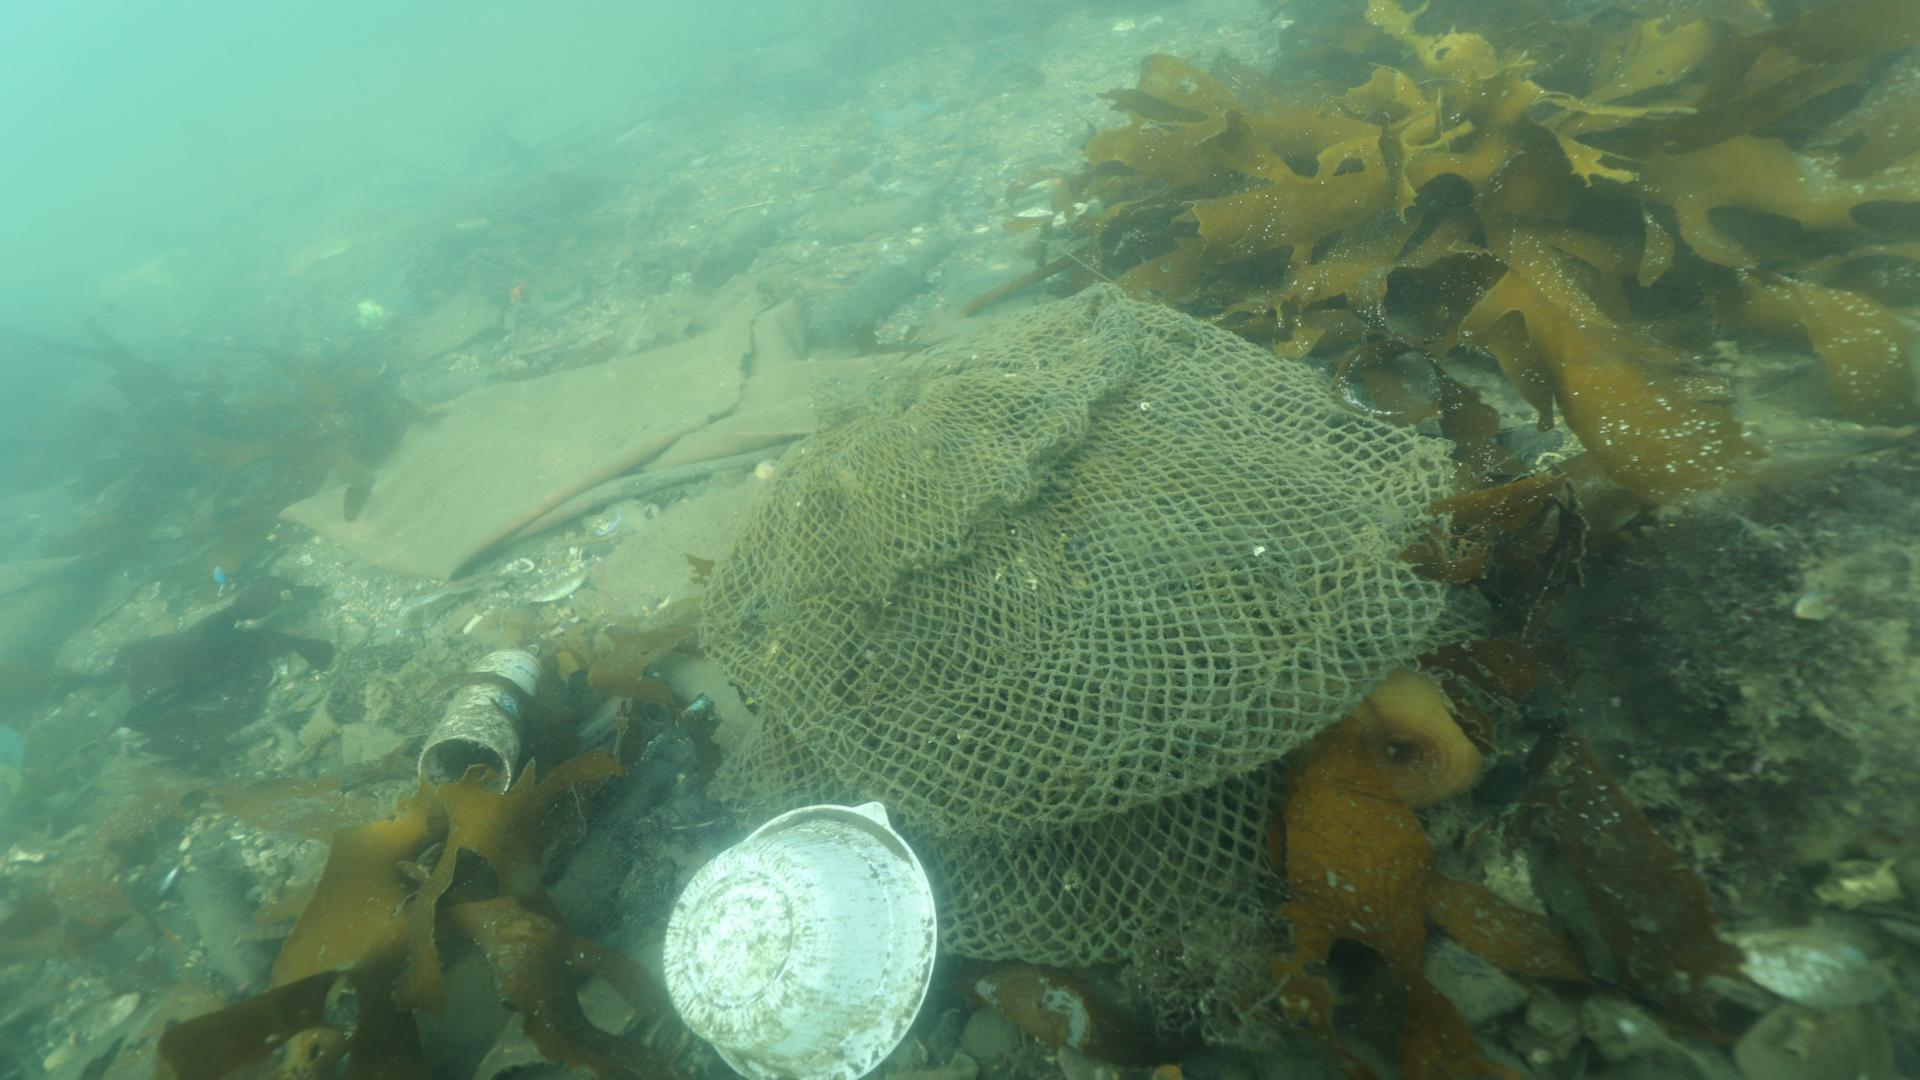fish net: (696, 280, 1489, 971)
